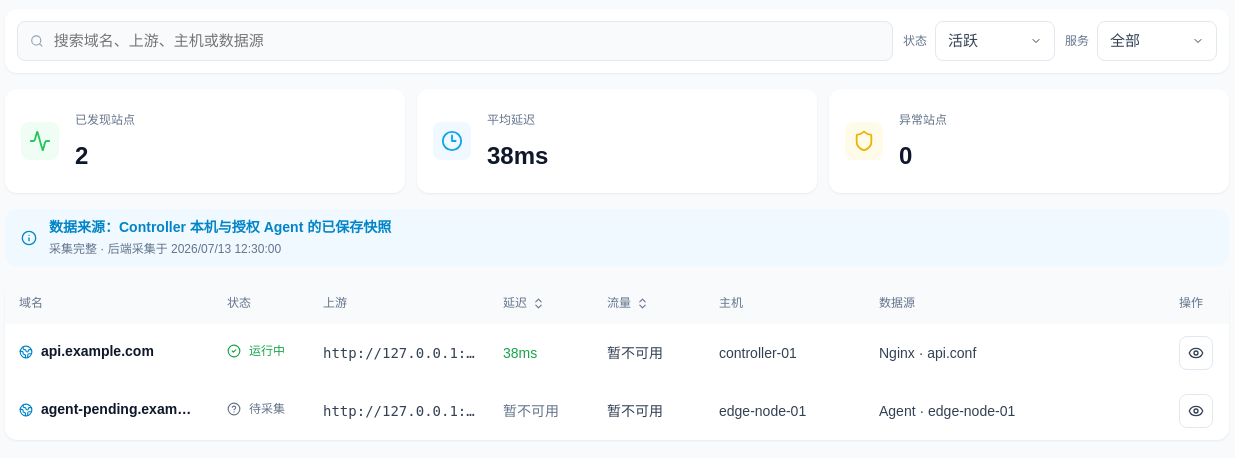
it: sites live monitoring page › keeps an unknown site reported by a remote agent visible on the running page
Expected: the element titled "agent-pending.example.com" is shown, [19,399,199,420]
Expected: the text "已发现站点" is shown, [75,113,135,127]
Click the dropdown named "状态 活跃". click: click(995, 41)
box: [935,21,1055,61]
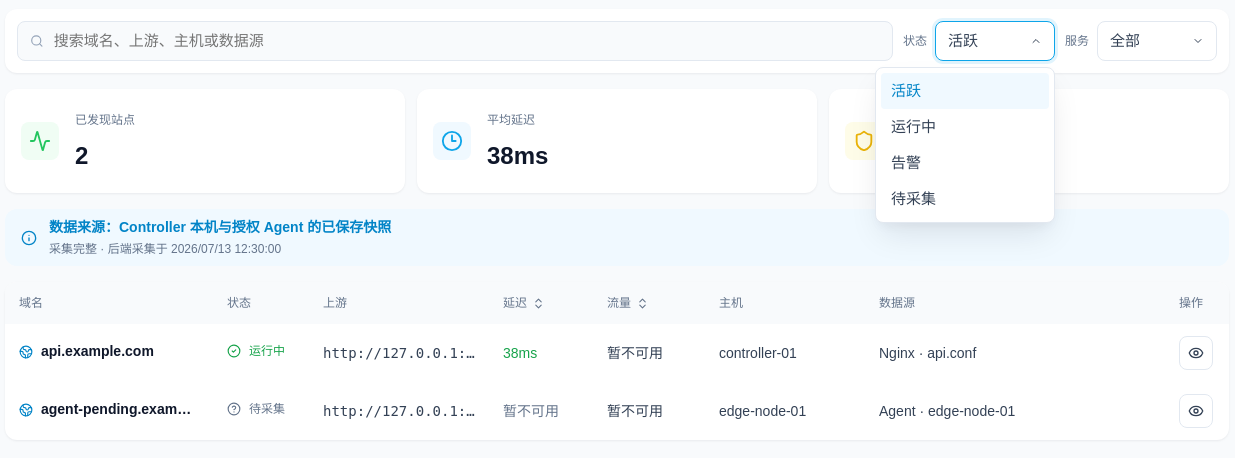
Click the option "待采集". click: click(965, 199)
box: [881,181,1049,217]
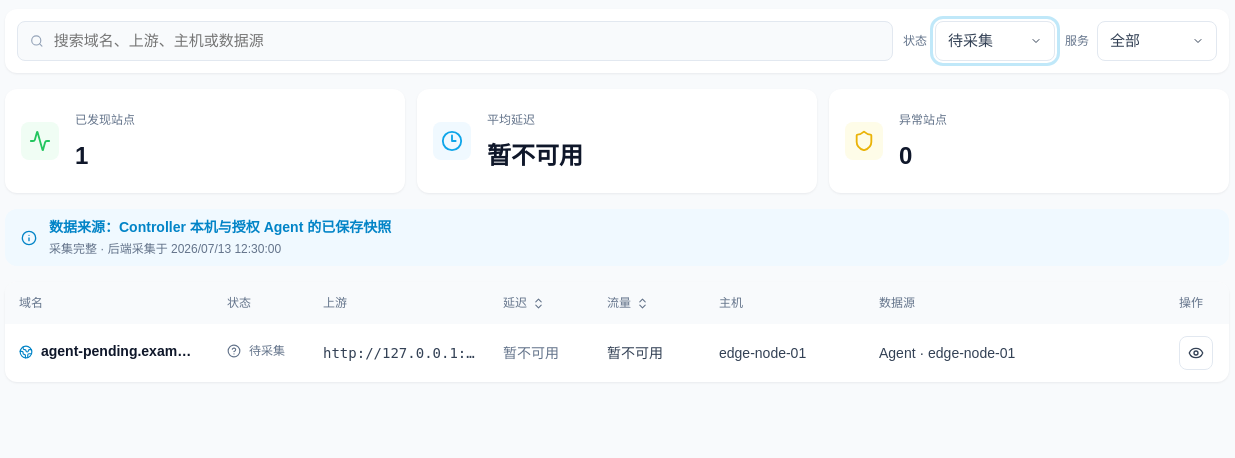
Expected: the element titled "agent-pending.example.com" is shown, [19,341,199,362]
Result: no elements titled "api.example.com" are shown
